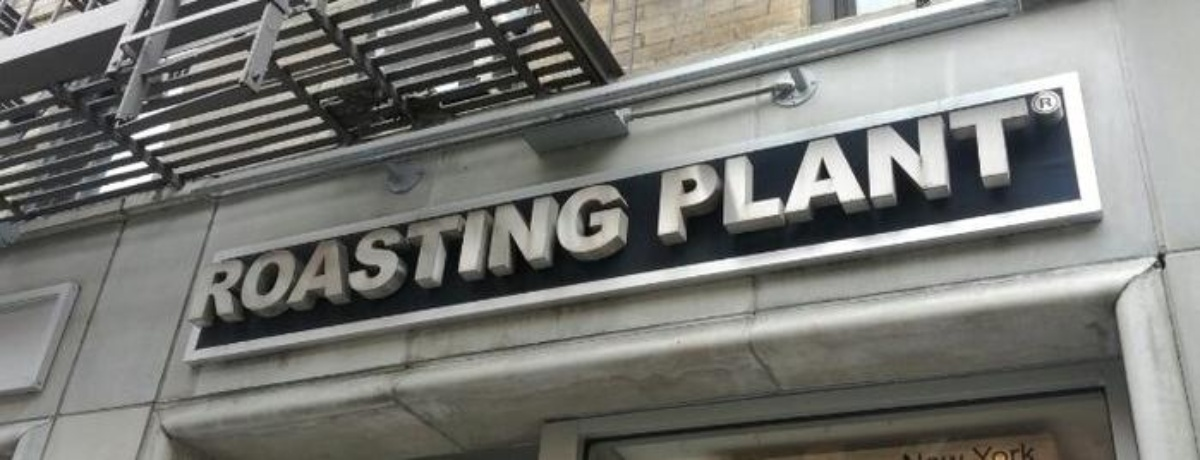text: (209, 176, 224, 325), (225, 176, 240, 325), (241, 176, 256, 325), (257, 176, 272, 325), (273, 176, 288, 325), (289, 176, 304, 325), (305, 176, 320, 325), (321, 176, 336, 325), (337, 176, 352, 325), (353, 176, 368, 325), (369, 176, 384, 325), (385, 176, 400, 325), (401, 176, 416, 325), (417, 176, 432, 325), (433, 176, 448, 325), (449, 176, 464, 325), (465, 176, 480, 325), (481, 176, 496, 325), (497, 176, 512, 325), (513, 176, 528, 325), (529, 176, 544, 325), (545, 176, 560, 325), (561, 176, 576, 325), (577, 176, 592, 325), (593, 176, 608, 325), (609, 176, 624, 325), (673, 95, 688, 244), (689, 95, 704, 244), (705, 95, 720, 244), (721, 95, 736, 244), (737, 95, 752, 244), (753, 95, 768, 244), (769, 95, 784, 244), (785, 95, 800, 244), (801, 95, 816, 244), (817, 95, 832, 244), (833, 95, 848, 244), (849, 95, 864, 244), (865, 95, 880, 244), (881, 95, 896, 244), (897, 95, 912, 244), (913, 95, 928, 244), (929, 95, 944, 244), (945, 95, 960, 244), (961, 95, 976, 244), (977, 95, 992, 244), (993, 95, 1008, 244), (1009, 95, 1024, 244), (658, 95, 672, 244), (196, 176, 208, 325), (1025, 95, 1037, 244), (625, 176, 632, 325), (1041, 97, 1056, 114), (897, 442, 912, 459), (913, 442, 928, 459), (929, 442, 944, 459), (945, 442, 960, 459), (961, 442, 976, 459), (977, 442, 992, 459), (993, 442, 1008, 459), (1009, 442, 1024, 459), (1025, 442, 1039, 459), (890, 442, 896, 459), (1037, 97, 1040, 114)
